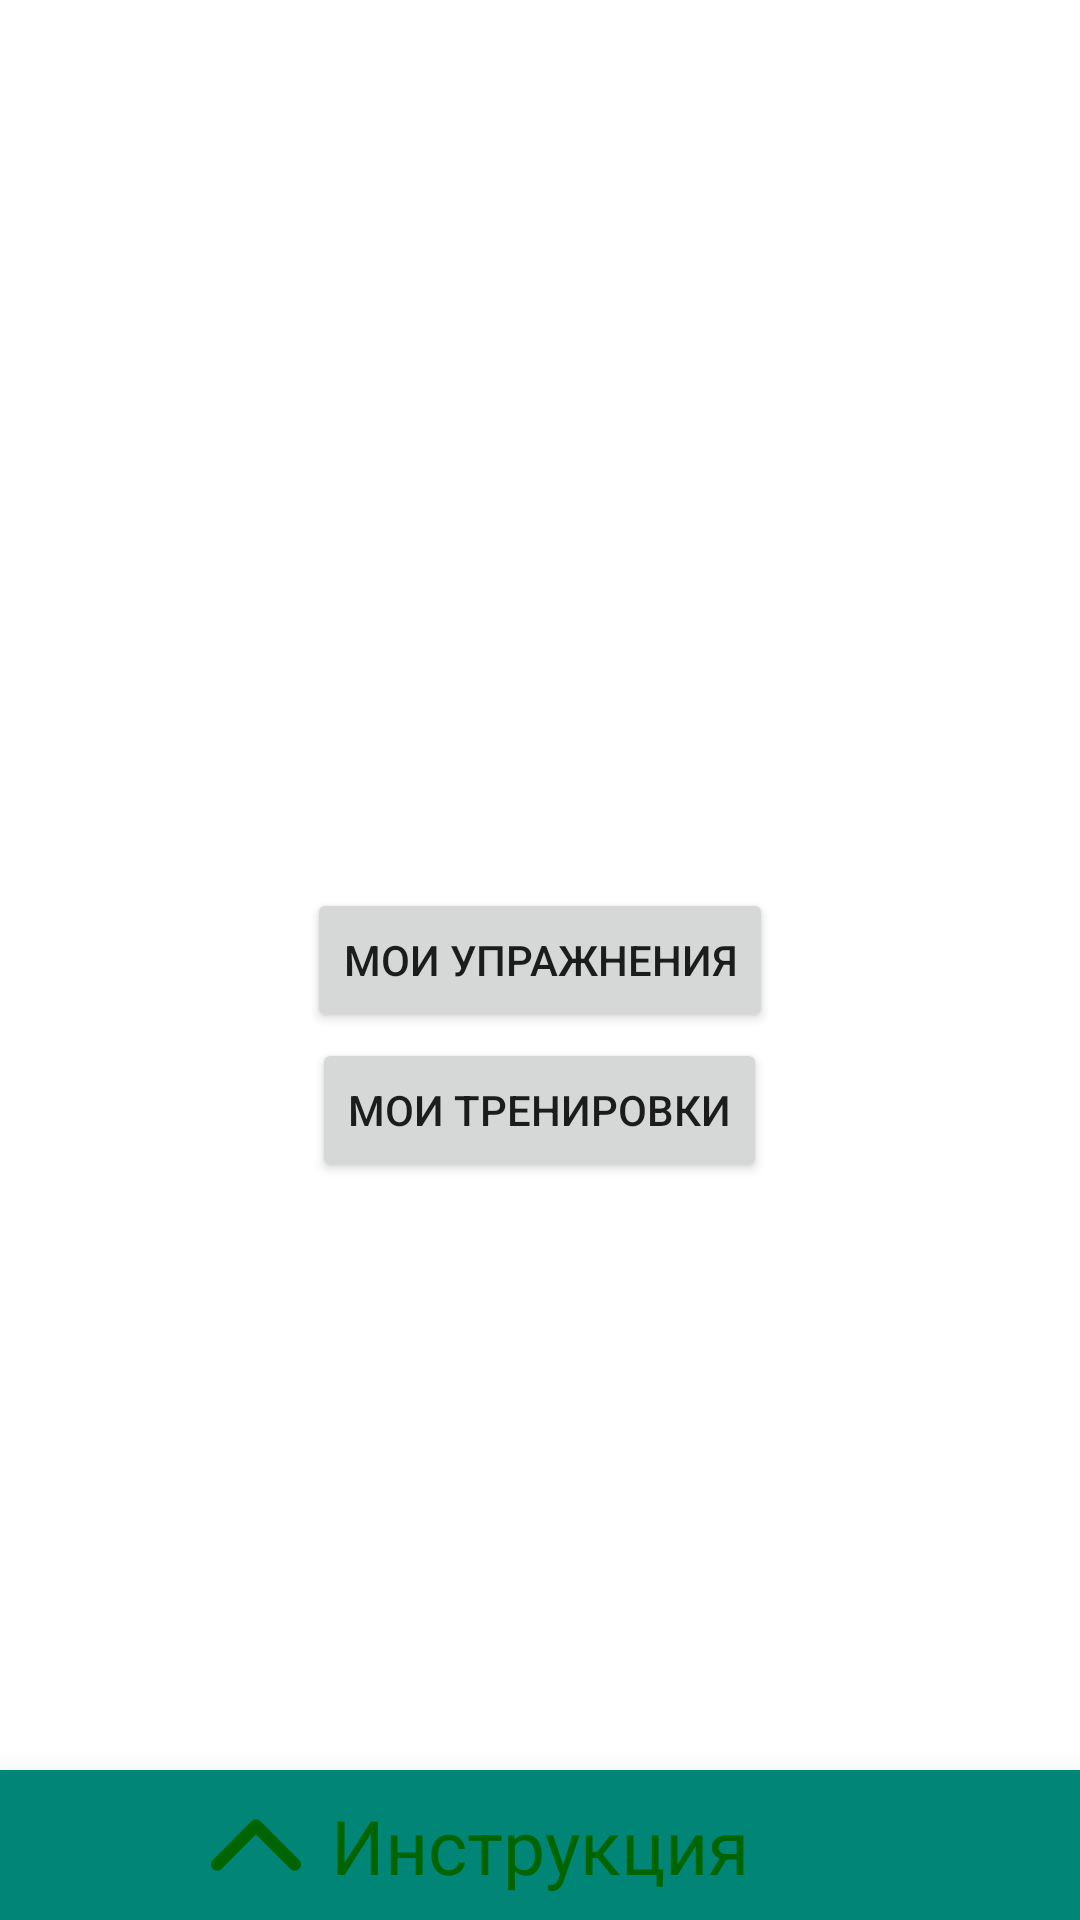

Locate icon controls on the screen. Image size 1080 × 1920, boxes as (x1, y1, x2, y2).
arrow up: (211, 1819, 301, 1871)
